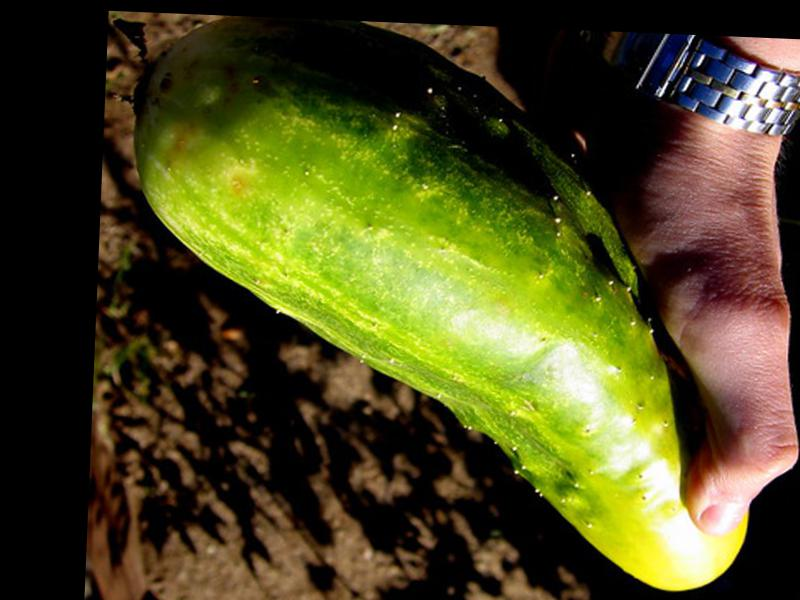Cucumber: (114, 11, 768, 593)
